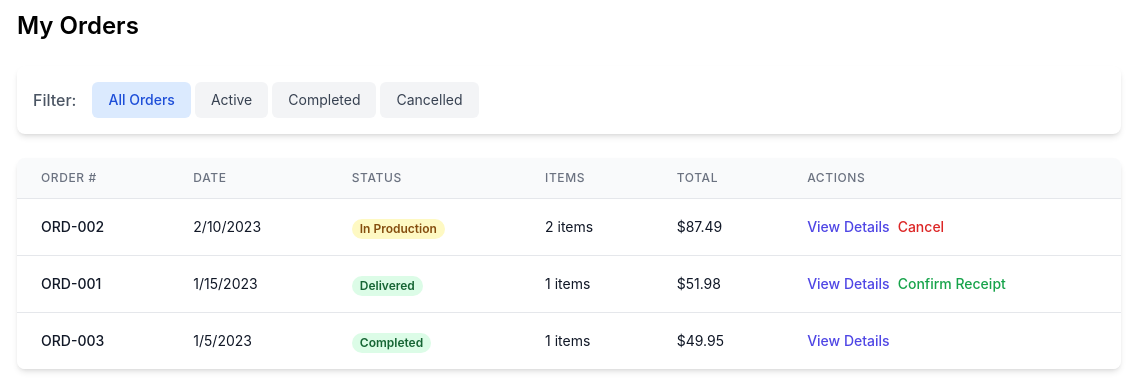
Scenario: OrdersList Component › cancels order when "Cancel" button is clicked
Expected: the text "ORD-002" is shown, 41,218 -> 104,235
Click the button "Cancel": (921,227) 898,217 -> 944,237
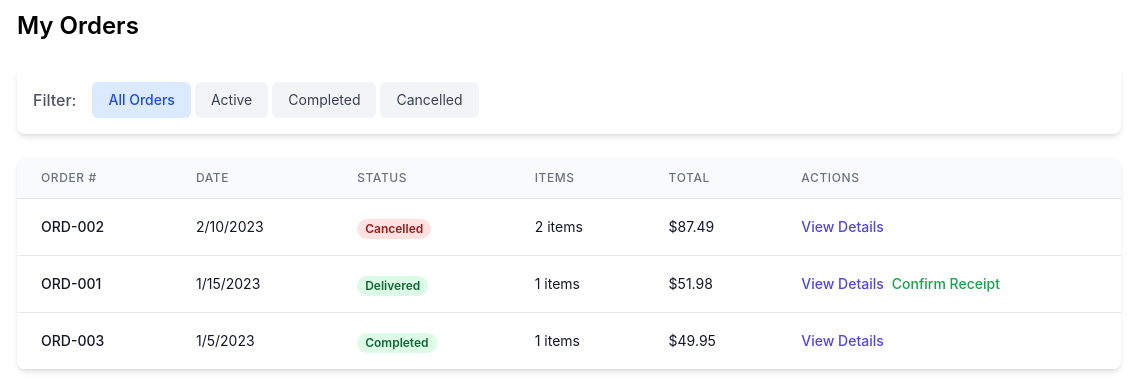
Expected: the row "ORD-002 2/10/2023 Cancelled 2 items $87.49 View Details" is shown, 17,198 -> 1121,256
